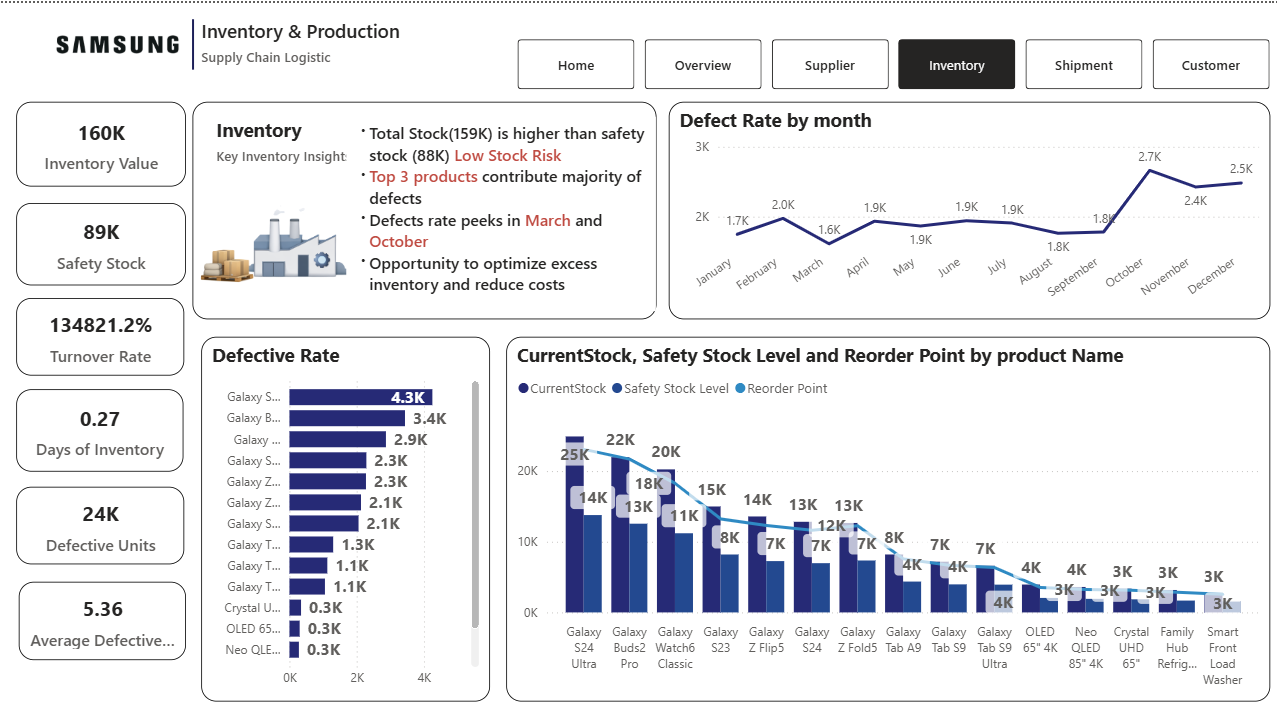

The page's visual inventory and layout, read from the dashboard file:
{"tool":"powerbi","page":{"name":"Inventory","canvas":[1280,720],"ordinal":3},"visuals":[{"type":"shape","title":"Inventory & Production","box":[201.7,15.3,235.1,71],"z":0},{"type":"shape","box":[16.9,15.7,351.1,50.7],"z":1000},{"type":"image","box":[0,15.7,235.3,50.7],"z":2000},{"type":"card","fields":{"Values":["Cost_QTS_Suppliers.Turnover Rate"]},"box":[16.7,295,168.3,77.9],"z":3000},{"type":"card","fields":{"Values":["Cost_QTS_Suppliers.Days_of_inventory"]},"box":[16.7,386.8,167,82.1],"z":4000},{"type":"card","fields":{"Values":["Sum(fact_production.defective_units)"]},"box":[16.7,484.2,168.3,77.9],"z":5000},{"type":"card","fields":{"Values":["MeasuresTable.Safety_Stock"]},"box":[16.7,200.3,169.7,82.1],"z":6000},{"type":"card","fields":{"Values":["MeasuresTable.Inventory_Value"]},"box":[16.7,98.8,169.7,84.9],"z":7000},{"type":"card","fields":{"Values":["Avg(fact_production.defective_units)"]},"box":[18.3,578.4,167.5,78.3],"z":8000},{"type":"barChart","title":" Defective Rate ","fields":{"Y":["Sum(fact_production.defective_units)"],"Category":["dim_product.product_name"]},"box":[201.2,333.8,288.8,365],"z":9000},{"type":"lineClusteredColumnComboChart","title":"CurrentStock, Safety Stock Level and Reorder Point by product Name","fields":{"Category":["dim_product.product_name"],"Y":["MeasuresTable.Inventory_Value","Sum(fact_inventory.safety_stock_level)"],"Y2":["Cost_QTS_Suppliers.Reorder Point"]},"box":[506.2,333.8,763.8,365],"z":10000},{"type":"lineChart","title":"Defect Rate by month","fields":{"Category":["dim_date.month_name"],"Y":["MeasuresTable.Defect_Rate"]},"box":[668.9,99,601.6,217.7],"z":11000},{"type":"shape","box":[192.5,98.8,463.8,217.5],"z":12000},{"type":"shape","title":"Inventory","box":[216.2,113.8,152.5,55],"z":13000},{"type":"image","box":[183.7,87.2,173.3,301.2],"z":14000},{"type":"pageNavigator","box":[517.3,36.7,753.3,50.1],"z":15000},{"type":"textbox","box":[346.1,113.7,309.4,194.4],"z":16000}]}

Visuals, with their boxes in screenshot pixels (x1, y1, x2, y2), scaled from the page's 1280x720 canvas onto the 1277x720 screenshot:
"Inventory & Production" shape: box=[201, 15, 436, 86]
shape: box=[17, 16, 367, 66]
image: box=[0, 16, 235, 66]
card - Cost_QTS_Suppliers.Turnover Rate: box=[17, 295, 185, 373]
card - Cost_QTS_Suppliers.Days_of_inventory: box=[17, 387, 183, 469]
card - Sum(fact_production.defective_units): box=[17, 484, 185, 562]
card - MeasuresTable.Safety_Stock: box=[17, 200, 186, 282]
card - MeasuresTable.Inventory_Value: box=[17, 99, 186, 184]
card - Avg(fact_production.defective_units): box=[18, 578, 185, 657]
" Defective Rate " barChart: box=[201, 334, 489, 699]
"CurrentStock, Safety Stock Level and Reorder Point by product Name" lineClusteredColumnComboChart: box=[505, 334, 1267, 699]
"Defect Rate by month" lineChart: box=[667, 99, 1268, 317]
shape: box=[192, 99, 655, 316]
"Inventory" shape: box=[216, 114, 368, 169]
image: box=[183, 87, 356, 388]
pageNavigator: box=[516, 37, 1268, 87]
textbox: box=[345, 114, 654, 308]
